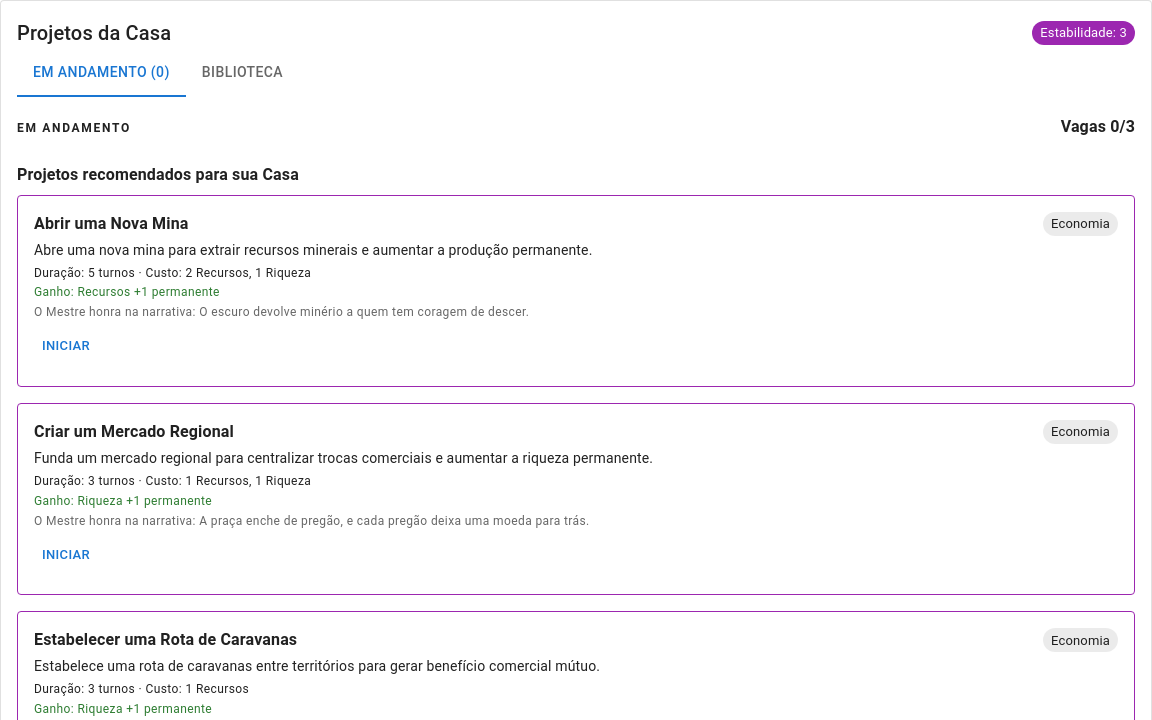
Test: HouseProjectsPanel › renders the library and starts a project
Check: the heading "Projetos da Casa" is shown, box [17, 17, 171, 49]
Click the tab "Biblioteca" at (242, 73), box [186, 49, 299, 97]
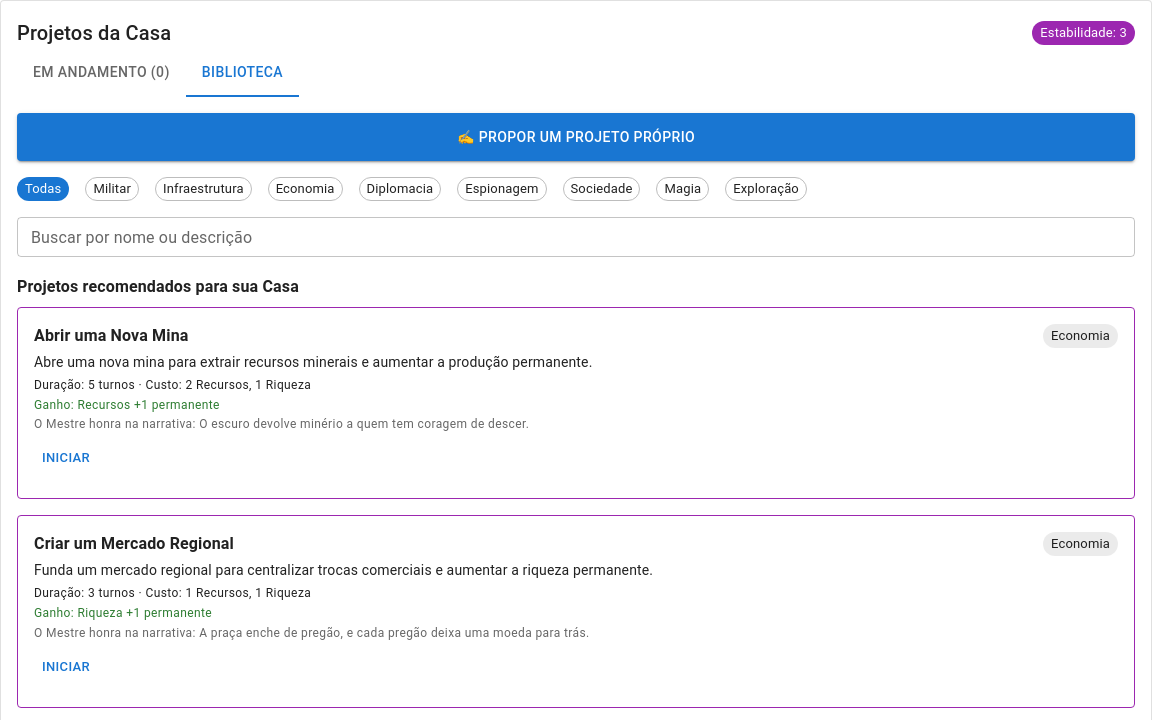
Click the 1st button "Iniciar" at (66, 459), box [34, 443, 98, 474]
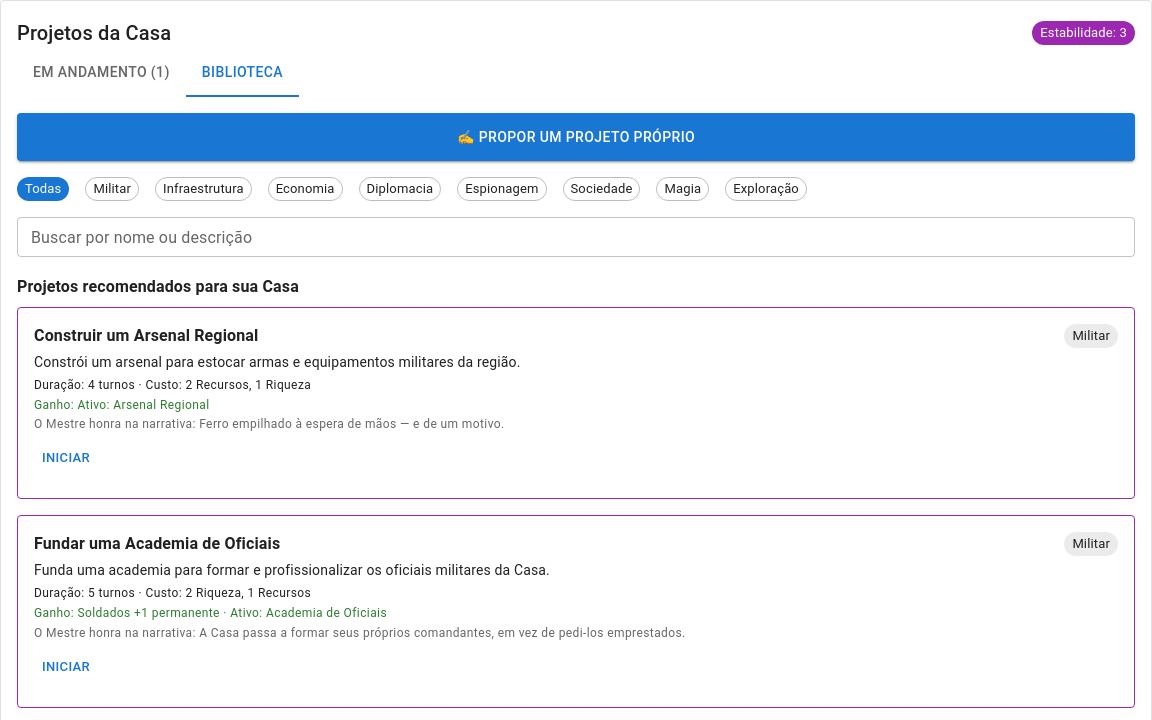
Check: the tab "Em andamento (1)" is shown, box [17, 49, 186, 97]
